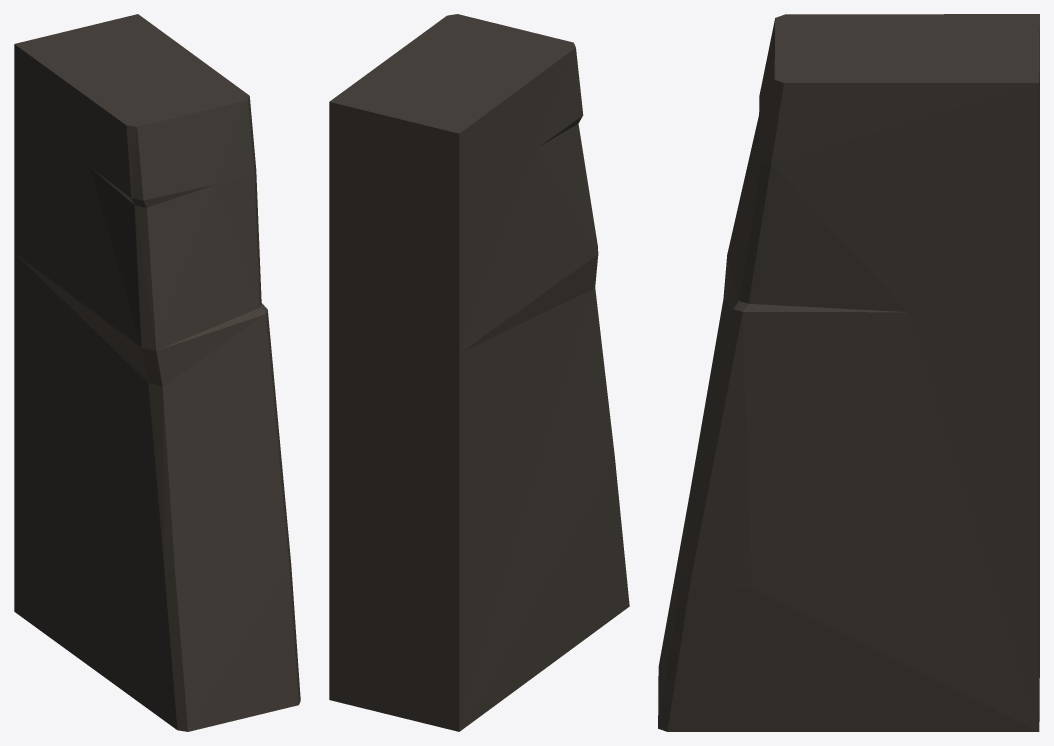
File: MCastle_MasonrySupports_02.FBX
The picture shows the model from 3 angles, left to right: view 1: azimuth 30°, elevation 25°; view 2: azimuth 150°, elevation 25°; view 3: azimuth 270°, elevation 25°; orthographic projection. The views are drawn at different scales.
Visible parts, largest first — view 1: MCastle_MasonrySupports_02_LOD0; view 2: MCastle_MasonrySupports_02_LOD0; view 3: MCastle_MasonrySupports_02_LOD0.
Boxes of the visible parts, left/top/right/bottom form: MCastle_MasonrySupports_02_LOD0: left=14, top=14, right=300, bottom=731; MCastle_MasonrySupports_02_LOD0: left=329, top=14, right=629, bottom=731; MCastle_MasonrySupports_02_LOD0: left=658, top=14, right=1039, bottom=731.
Size of what is drawn, in the model's own units: 42.6 by 174 by 92.92.
